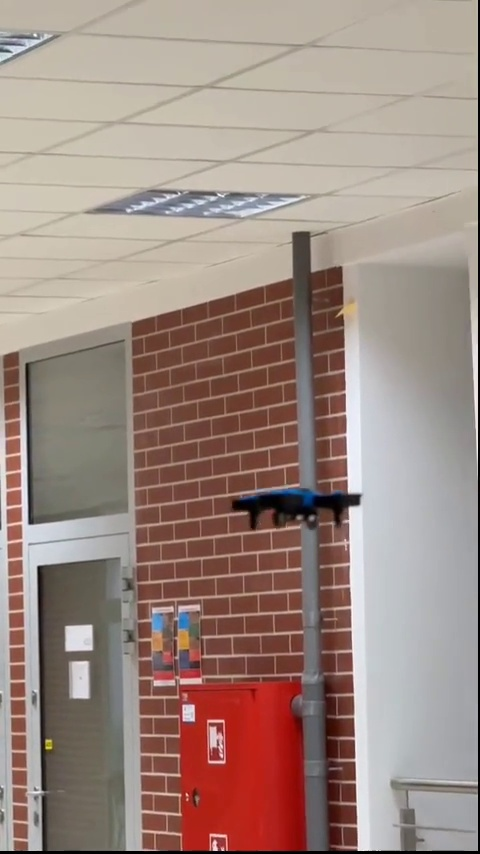drone: (236, 487, 362, 530)
